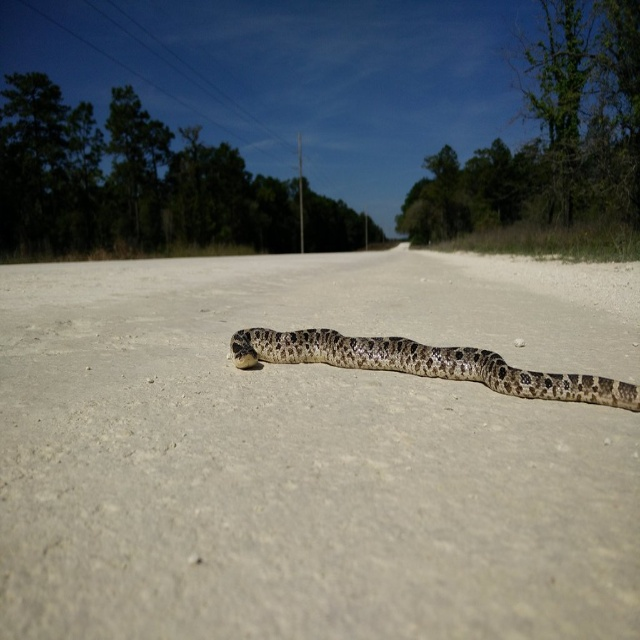Snake: (227, 310, 640, 407)
